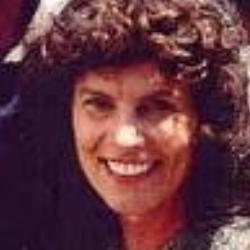face: (18, 3, 245, 220)
